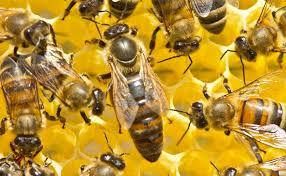Queen-Bee: (88, 17, 182, 163)
worker-bee: (187, 83, 286, 157), (23, 35, 106, 116), (0, 52, 53, 160)
